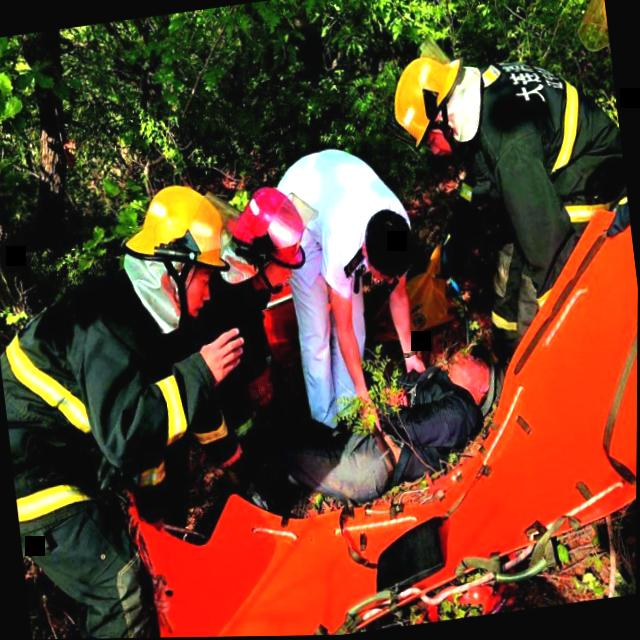Fall-Detected: (240, 317, 526, 525)
